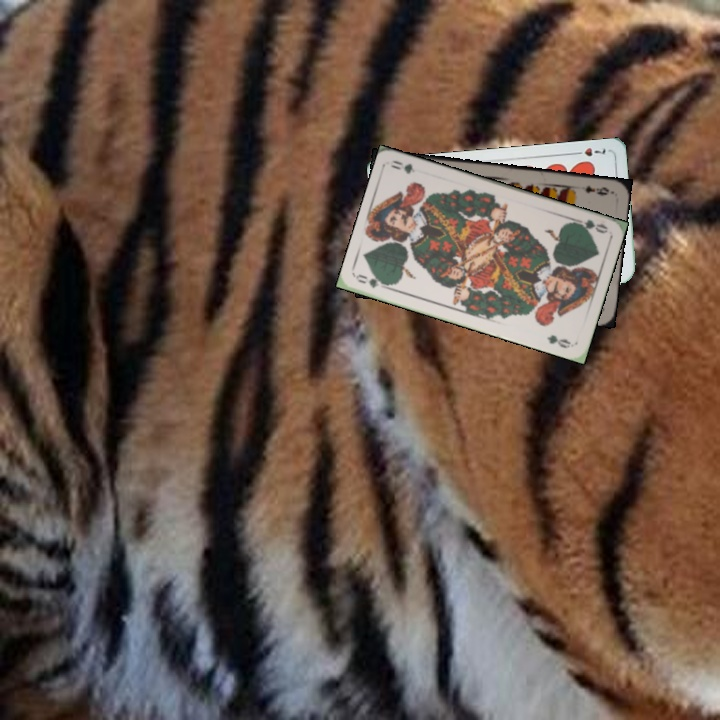E9: (582, 181, 614, 198)
GO: (354, 270, 395, 292), (569, 215, 610, 236)
H7: (569, 143, 608, 159)
